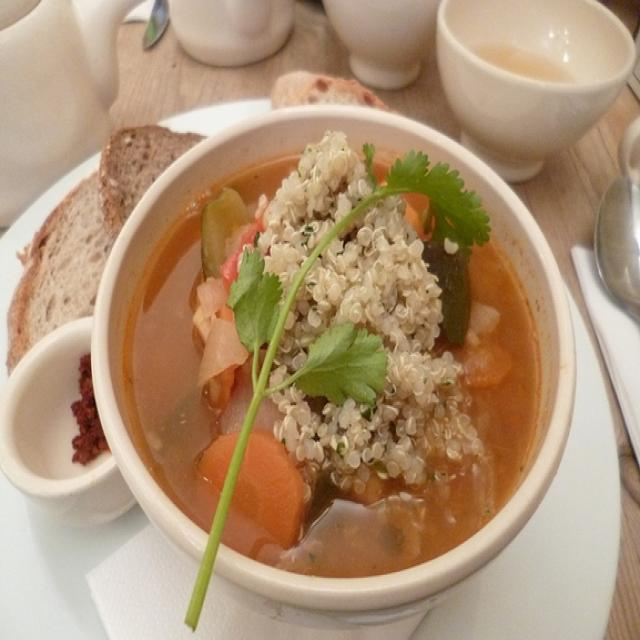汤锅炖物: (101, 106, 568, 588)
